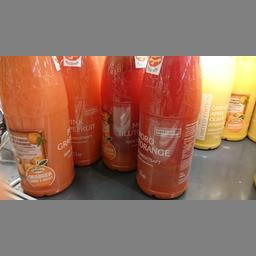juice: (0, 54, 75, 196), (134, 57, 202, 198), (52, 56, 102, 167), (98, 54, 137, 172)
